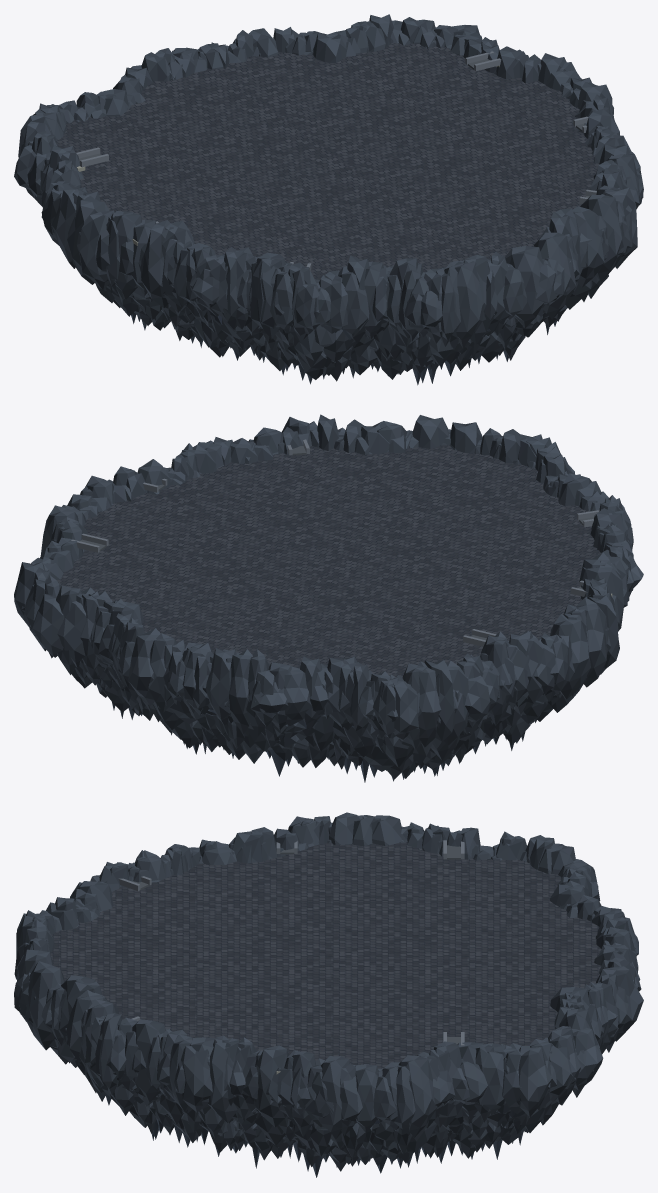
Rendered from island_mass.glb.
The picture shows the model from 3 angles, top to bottom: view 1: azimuth 30°, elevation 25°; view 2: azimuth 150°, elevation 25°; view 3: azimuth 270°, elevation 25°; orthographic projection.
Visible parts, largest first — view 1: rock_floor, rock_rock; view 2: rock_floor, rock_rock; view 3: rock_floor, rock_rock.
Boxes of the visible parts, bbox=[...] form: rock_floor: bbox=[56, 43, 599, 279]; rock_rock: bbox=[14, 14, 643, 385]; rock_floor: bbox=[57, 445, 600, 676]; rock_rock: bbox=[14, 414, 643, 782]; rock_floor: bbox=[50, 842, 601, 1068]; rock_rock: bbox=[14, 812, 643, 1177].
Size of the model in its own units: 25.24 by 6.99 by 25.69.
Materials: 5 (1 with a texture image).
